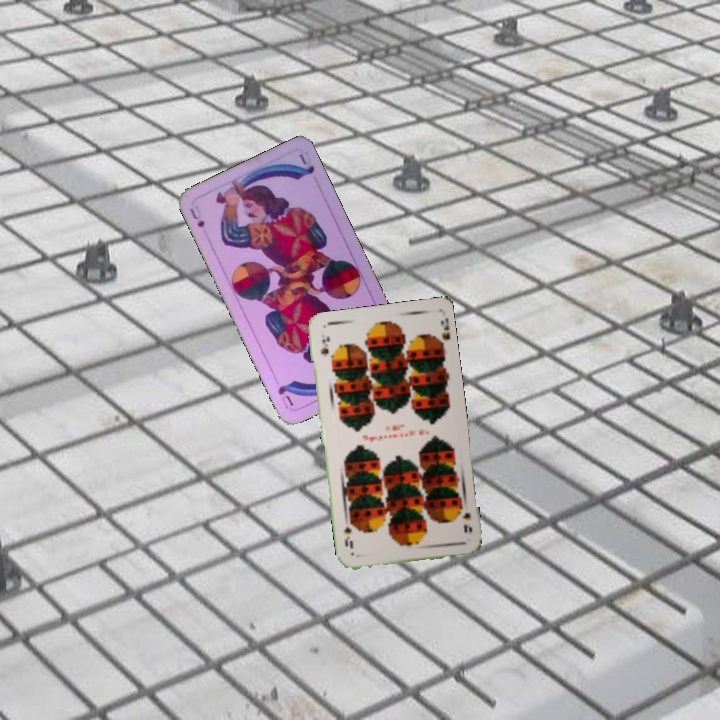S9: (454, 499, 475, 535), (317, 333, 331, 358)
SU: (186, 201, 207, 230)
